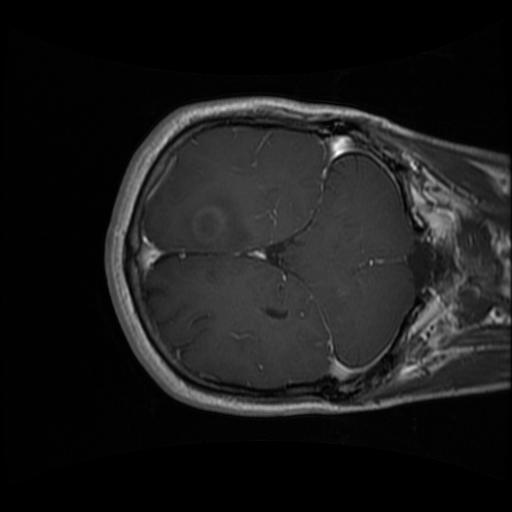glioma: (183, 197, 248, 254)
